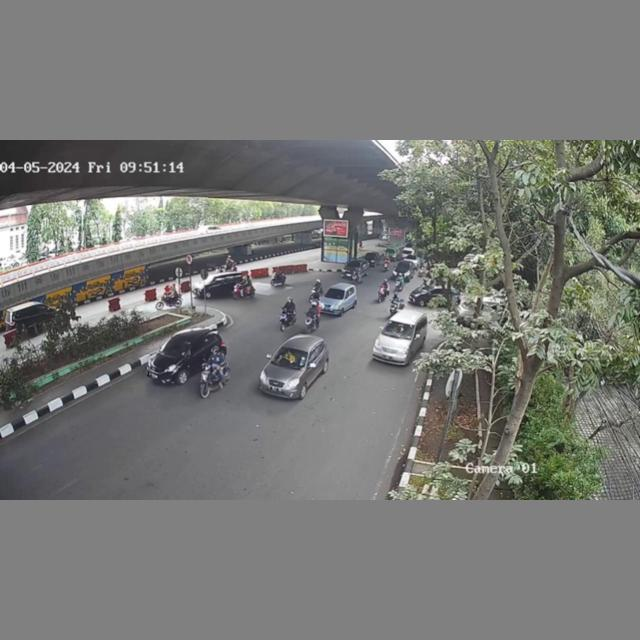windshield: (271, 346, 308, 369), (382, 319, 416, 340), (158, 338, 189, 356)
